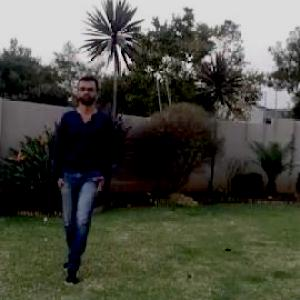follow: (40, 69, 112, 287)
